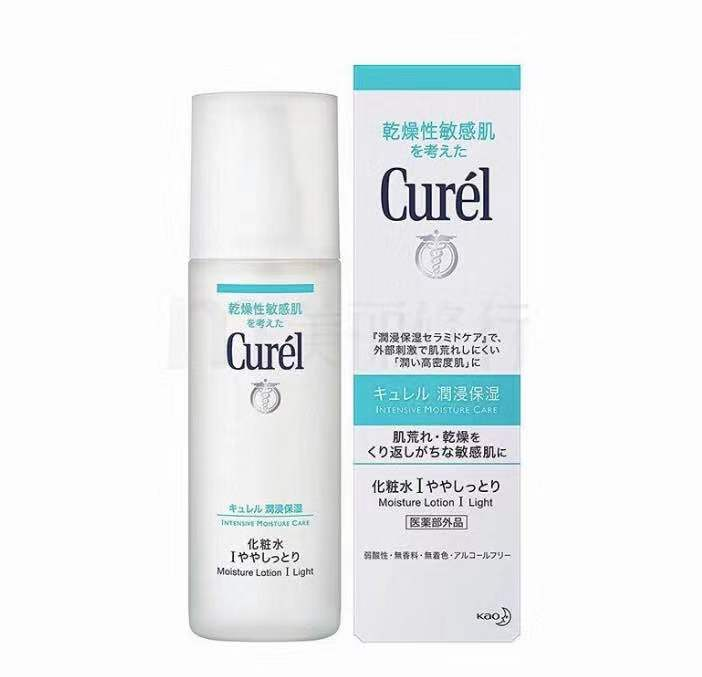cosmetic: (189, 93, 344, 627)
